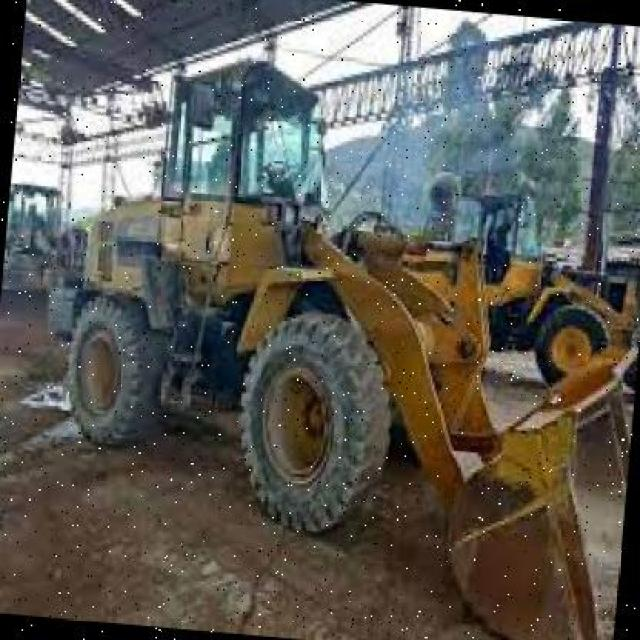buldozerpayloadergrader: (29, 27, 640, 640)
